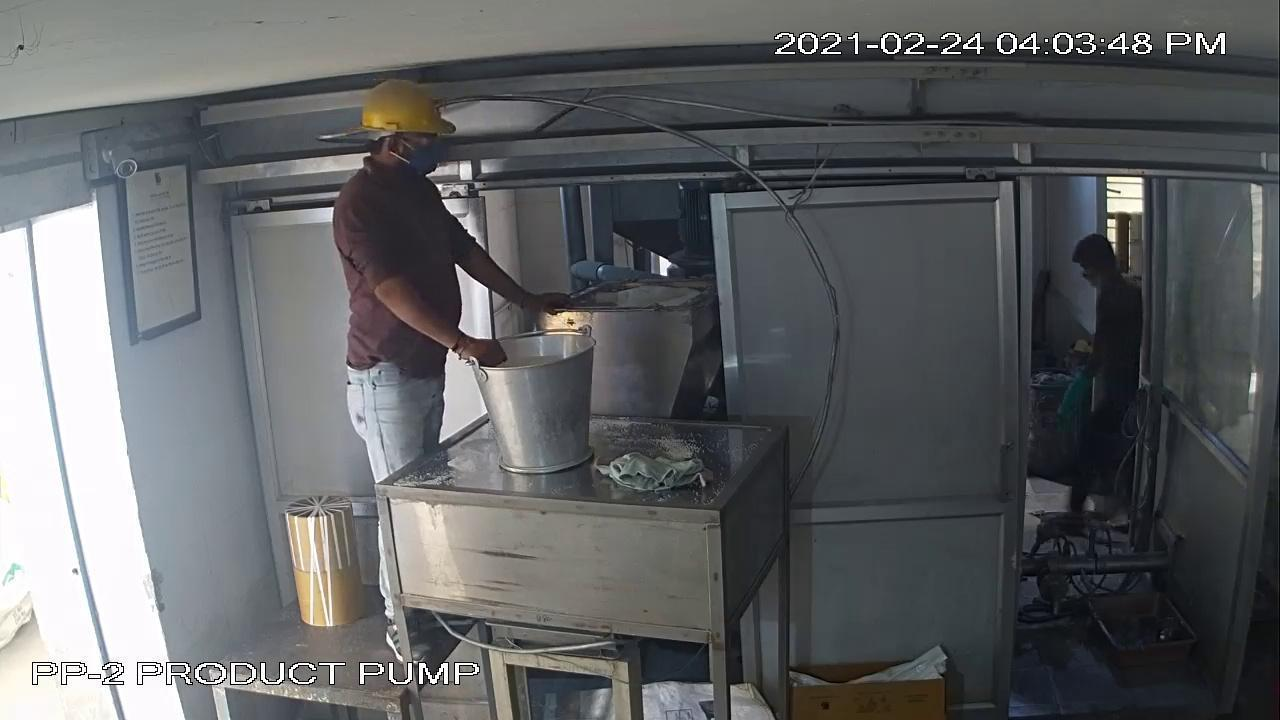helmet: (357, 76, 462, 145)
